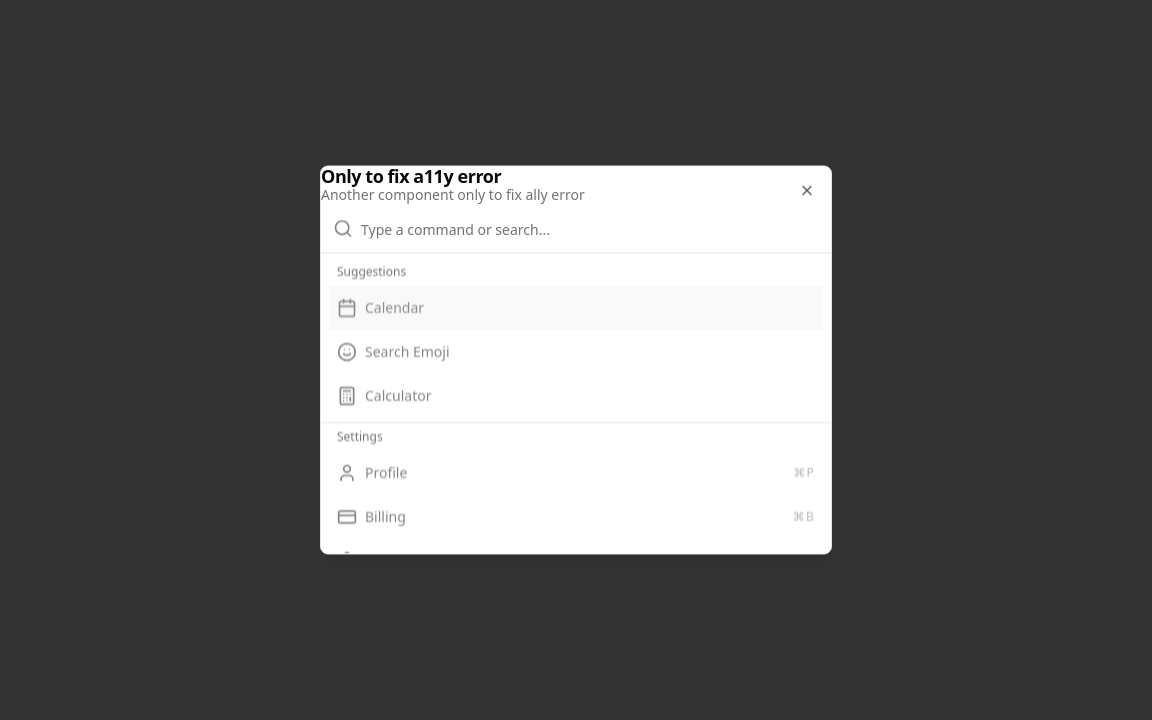
<Command /> › should renders command successfully using dialog
Expected: the text "Calendar" is shown, top-left (365, 298), bottom-right (424, 318)
In the dropdown with placeholder "Type a command or search...": (590, 228) top-left (361, 204), bottom-right (819, 252), type "Billing"
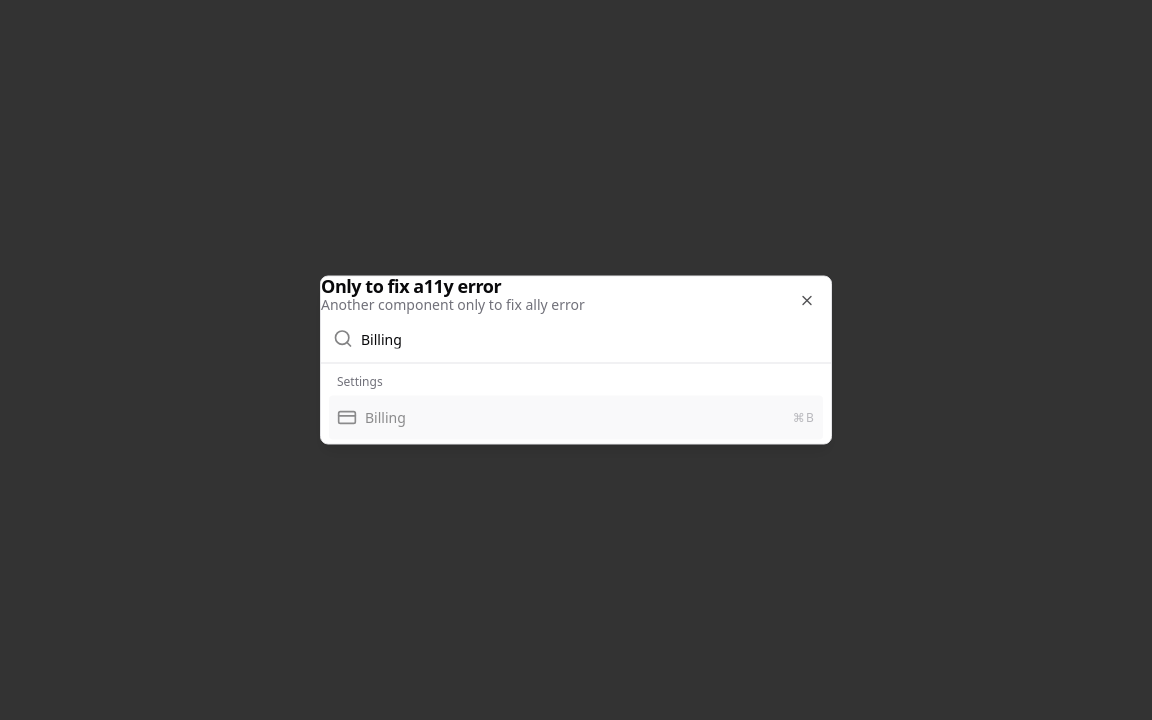
Expected: the text "Billing" is shown, top-left (365, 408), bottom-right (406, 428)
Result: the option "Calendar" is gone
